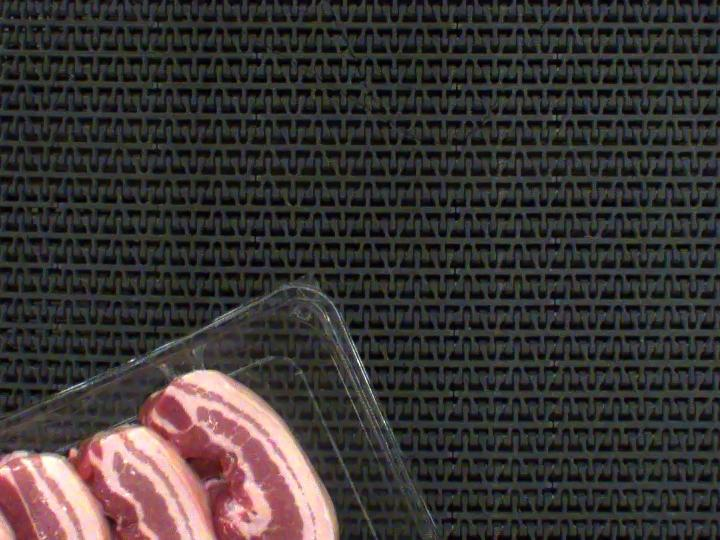packaging-error: (158, 340, 216, 380)
